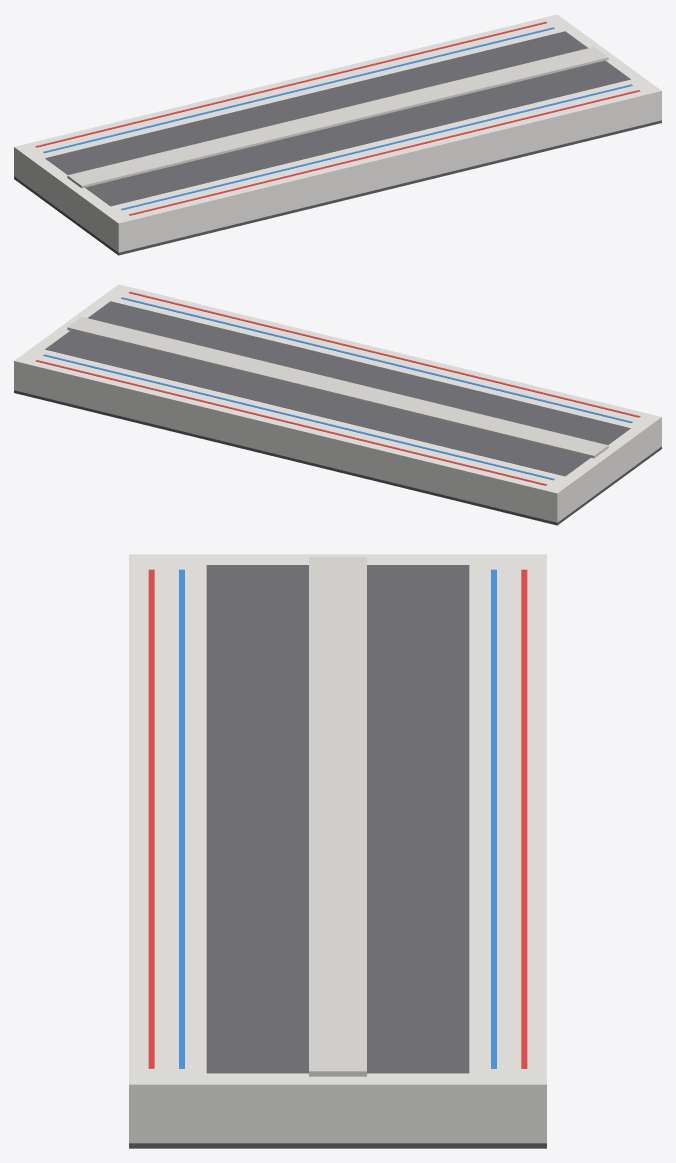
File: breadboard_830.glb
The picture shows the model from 3 angles, top to bottom: view 1: azimuth 30°, elevation 25°; view 2: azimuth 150°, elevation 25°; view 3: azimuth 270°, elevation 25°; orthographic projection. The views are drawn at different scales.
Parts seen in each view (by area): view 1: Breadboard_Base, Lower_Terminal_Area, Upper_Terminal_Area, Breadboard_Central_Trough, Breadboard_Foam, Cube, Cube.001, Cube.002, Cube.003; view 2: Breadboard_Base, Upper_Terminal_Area, Lower_Terminal_Area, Breadboard_Central_Trough, Breadboard_Foam, Cube, Cube.001, Cube.002, Cube.003; view 3: Breadboard_Base, Upper_Terminal_Area, Lower_Terminal_Area, Breadboard_Central_Trough, Cube, Cube.003, Cube.001, Cube.002, Breadboard_Foam.
Boxes of the visible parts, <box> form: Breadboard_Base: <box>14,14,661,252</box>; Lower_Terminal_Area: <box>85,60,630,206</box>; Upper_Terminal_Area: <box>45,31,588,174</box>; Breadboard_Central_Trough: <box>67,47,608,188</box>; Breadboard_Foam: <box>14,120,661,255</box>; Cube: <box>35,21,546,147</box>; Cube.001: <box>43,27,554,153</box>; Cube.002: <box>121,84,632,210</box>; Cube.003: <box>128,90,640,215</box>; Breadboard_Base: <box>14,284,661,522</box>; Upper_Terminal_Area: <box>45,330,590,476</box>; Lower_Terminal_Area: <box>87,301,630,444</box>; Breadboard_Central_Trough: <box>67,317,608,458</box>; Breadboard_Foam: <box>14,390,661,525</box>; Cube: <box>35,360,547,485</box>; Cube.001: <box>43,354,554,480</box>; Cube.002: <box>121,297,632,423</box>; Cube.003: <box>129,291,640,417</box>; Breadboard_Base: <box>129,554,546,1143</box>; Upper_Terminal_Area: <box>367,565,469,1073</box>; Lower_Terminal_Area: <box>206,565,308,1073</box>; Breadboard_Central_Trough: <box>309,557,366,1076</box>; Cube: <box>521,569,527,1068</box>; Cube.003: <box>148,569,154,1068</box>; Cube.001: <box>491,569,496,1068</box>; Cube.002: <box>179,569,184,1068</box>; Breadboard_Foam: <box>129,1143,546,1148</box>.
Size of the model in its own units: 0.165 by 0.0101 by 0.055.
